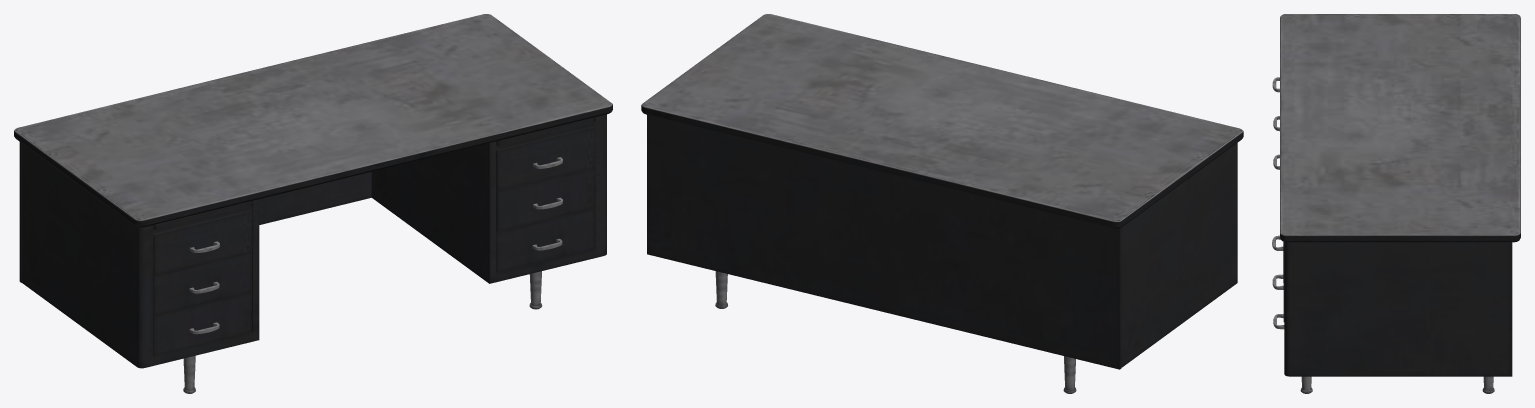
Rendered from nyb_wallst_desk.glb.
The picture shows the model from 3 angles, left to right: view 1: azimuth 30°, elevation 25°; view 2: azimuth 150°, elevation 25°; view 3: azimuth 270°, elevation 25°; orthographic projection. The views are drawn at different scales.
Visible parts, largest first — view 1: metal_office_desk_drawer_06; view 2: metal_office_desk_drawer_06; view 3: metal_office_desk_drawer_06.
Part boxes in pixels (x1,y1,x2,y2): metal_office_desk_drawer_06: [14, 14, 612, 393]; metal_office_desk_drawer_06: [641, 14, 1243, 393]; metal_office_desk_drawer_06: [1272, 14, 1520, 393].
Size of the model in its own units: 2 by 0.7875 by 0.9472.
Materials: 2 (2 with a texture image).
